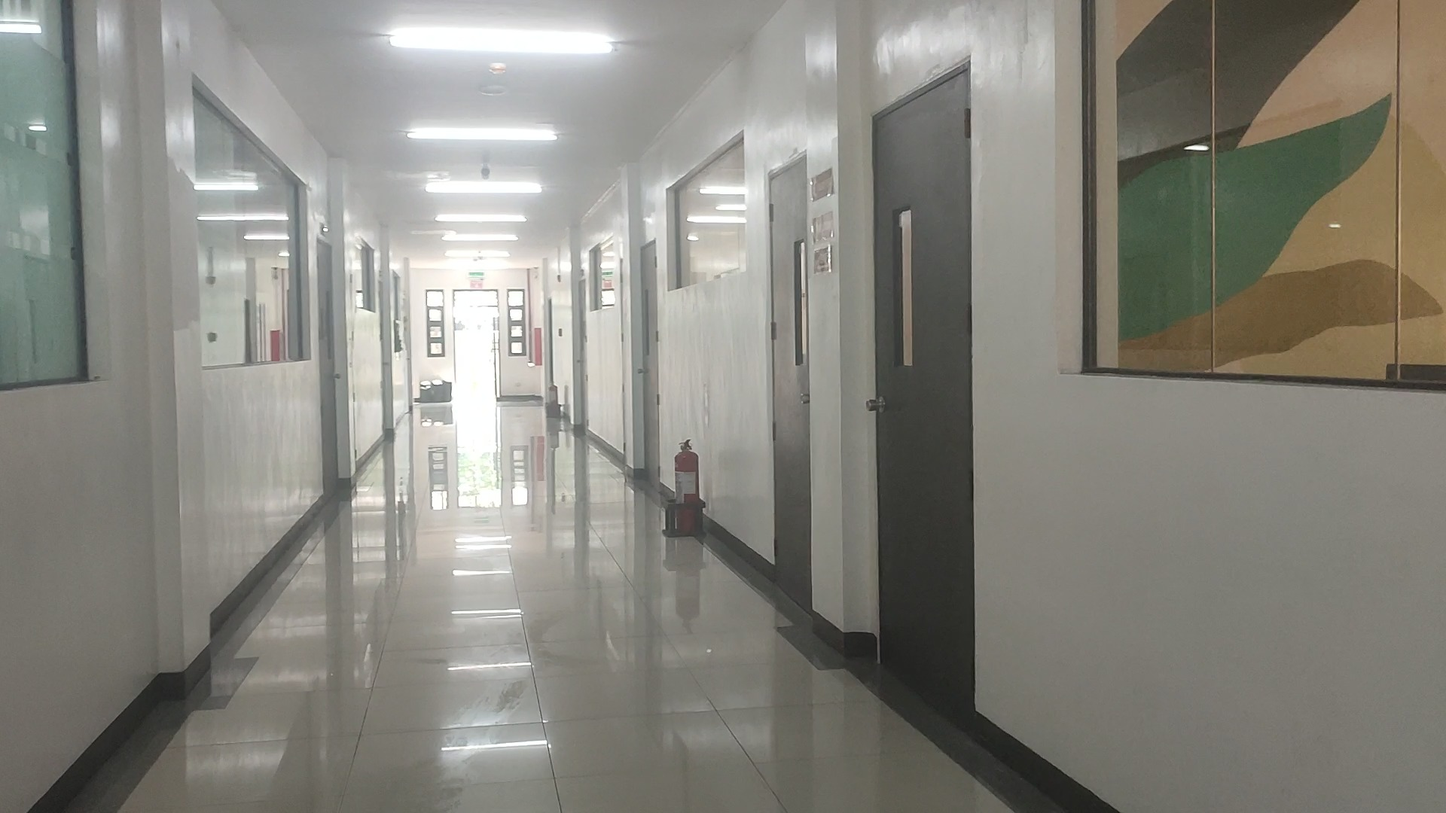door: (870, 58, 975, 731), (765, 148, 813, 615)
